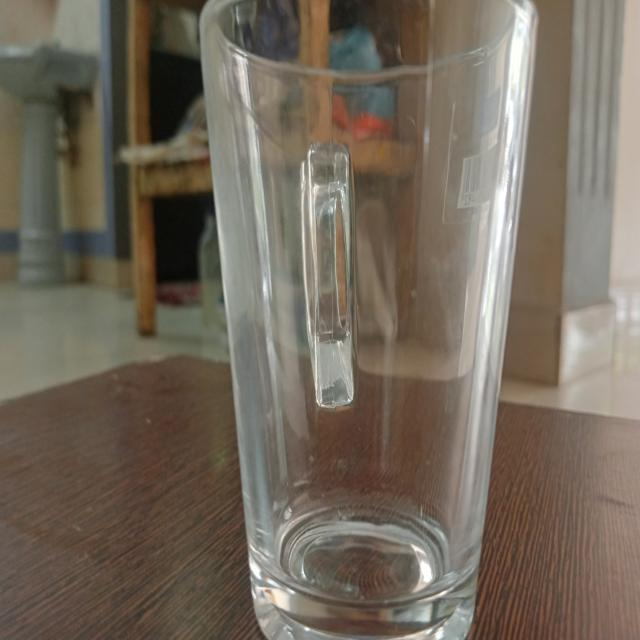glass-VX4N: (197, 0, 538, 640)
